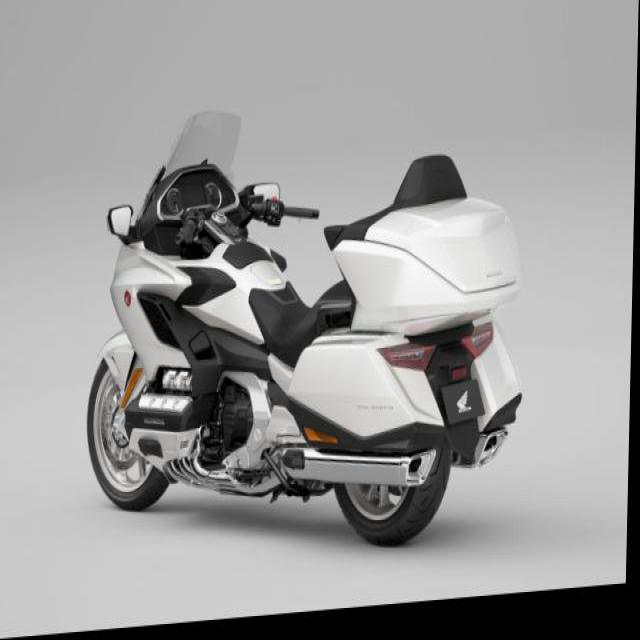Gold Wing: (86, 95, 530, 580)
